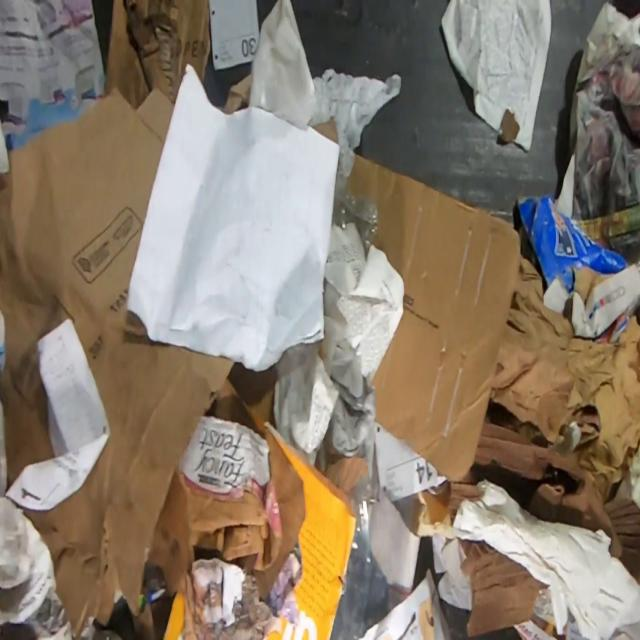cardboard: (0, 86, 234, 638), (348, 154, 522, 481), (149, 361, 306, 600), (516, 193, 640, 339), (103, 0, 212, 108), (224, 73, 252, 115)
rigid_plastic: (328, 437, 390, 640), (331, 187, 378, 259)
